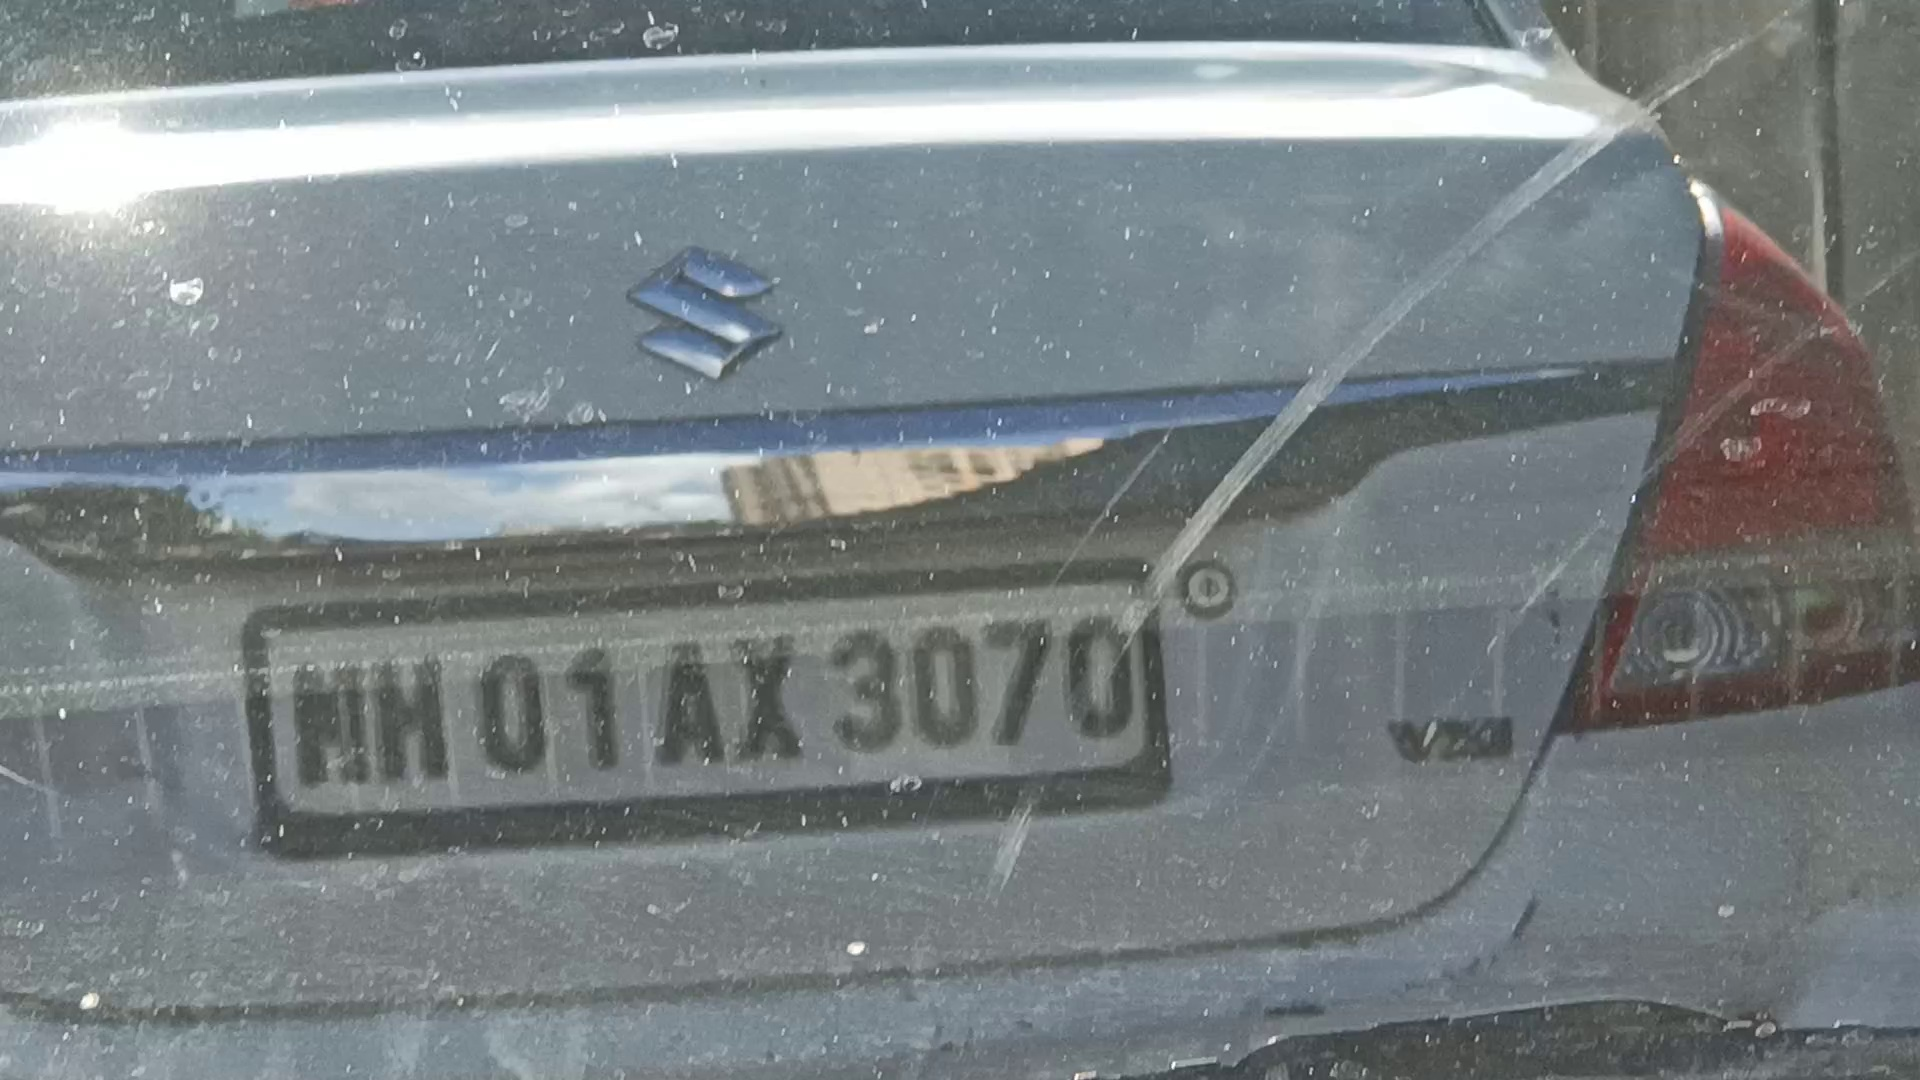MH01AX3070: (265, 578, 1148, 810)
